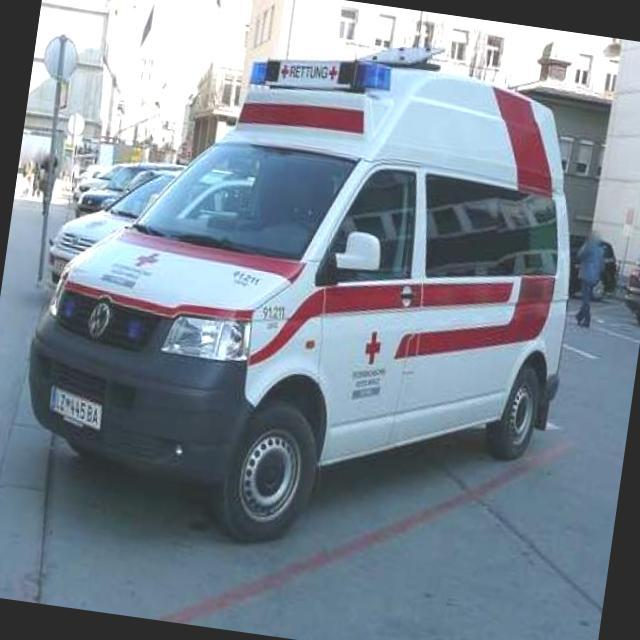emergency-vehicle: (3, 0, 604, 578)
